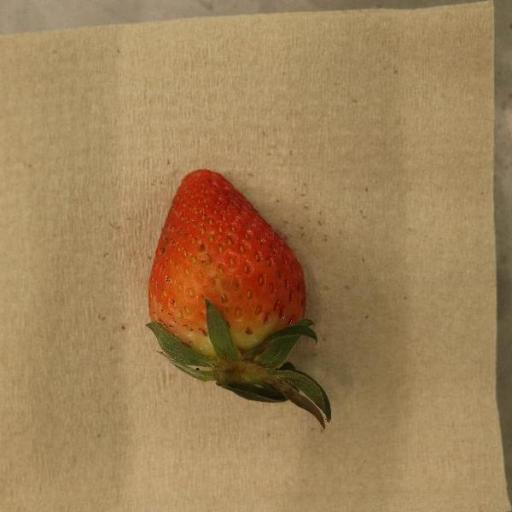Strawberry: (149, 170, 332, 430)
